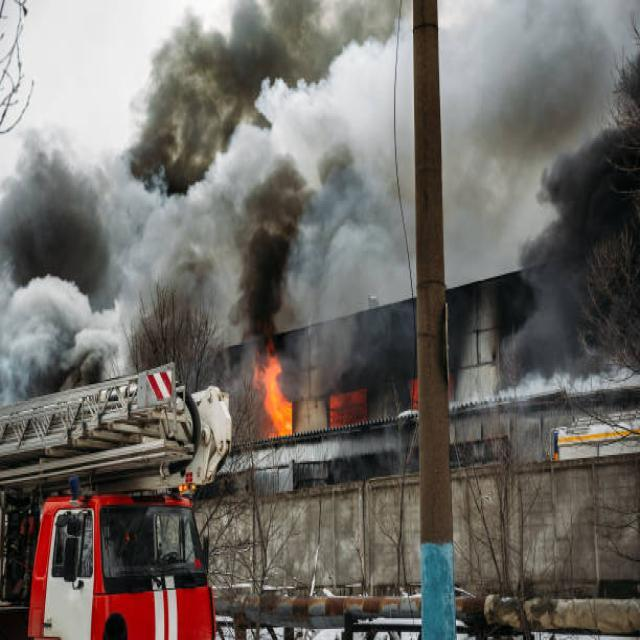Fire: (250, 344, 292, 435)
Smoke: (0, 0, 640, 392)
